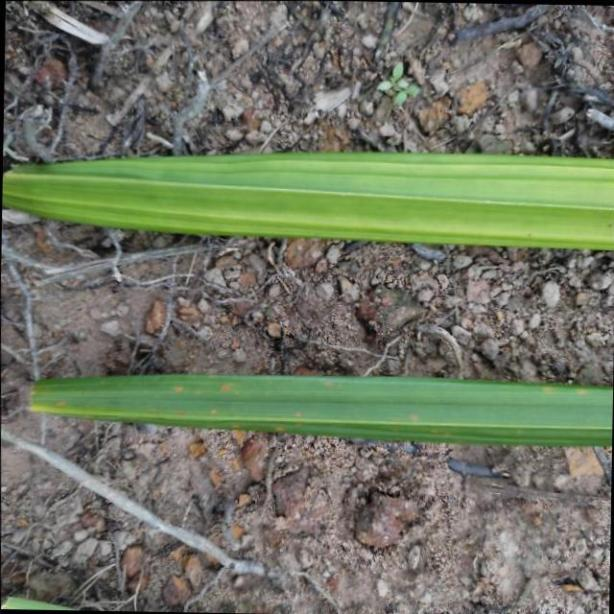nitrogen: (38, 148, 614, 252), (27, 365, 614, 450)
